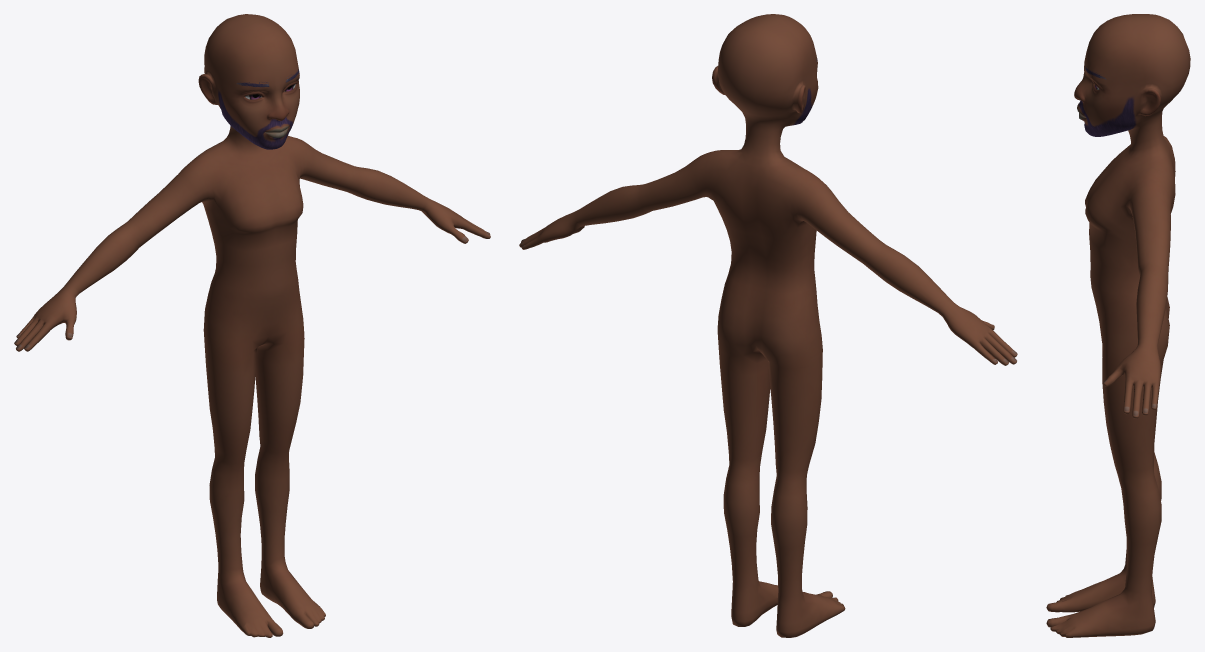
File: frame_0093.glb
3 views of the same model, side by side, from view 1: azimuth 30°, elevation 25°; view 2: azimuth 150°, elevation 25°; view 3: azimuth 270°, elevation 25° (orthographic). The views are drawn at different scales.
Visible parts, largest first — view 1: frame_0093_head_geo; view 2: frame_0093_head_geo; view 3: frame_0093_head_geo.
Part boxes in pixels (left/top/right/bottom): frame_0093_head_geo: left=14, top=14, right=490, bottom=637; frame_0093_head_geo: left=519, top=14, right=1017, bottom=637; frame_0093_head_geo: left=1046, top=14, right=1190, bottom=637.
Size of the model in its own units: 1.28 by 1.5 by 0.3253.
Materials: 3 (3 with a texture image).
